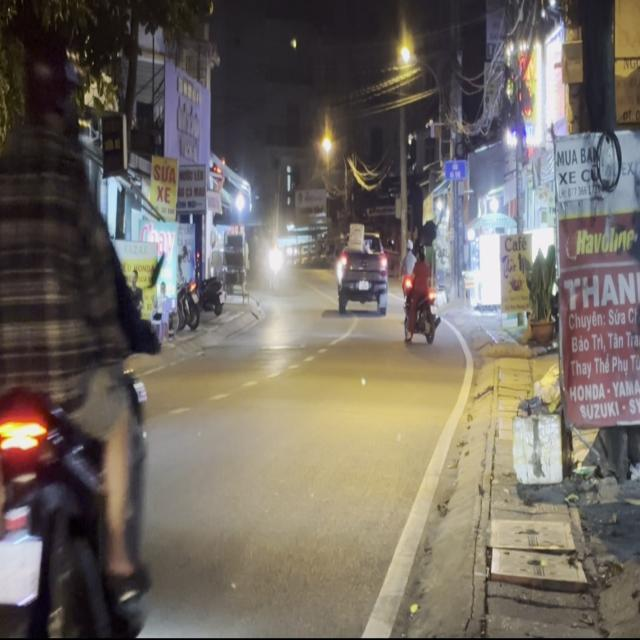helmet: (19, 28, 87, 148)
licenseplate: (0, 0, 159, 631)
nohelmet: (0, 535, 40, 601)
